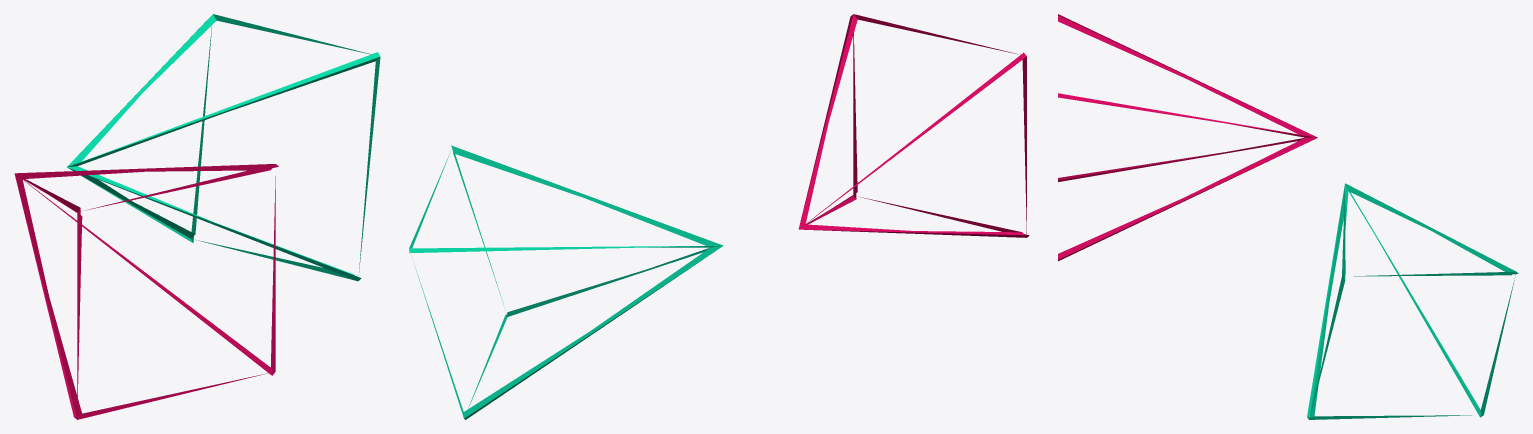
Rendered from glbscene_50_All_maskbFalse_maskwFalse_camTrue_skyFalse_predDepthmap_and_Camera_Branch.glb.
3 renders of one model, left to right at view 1: azimuth 30°, elevation 25°; view 2: azimuth 150°, elevation 25°; view 3: azimuth 270°, elevation 25°, orthographic. The views are drawn at different scales.
Visible parts, largest first — view 1: world; view 2: world; view 3: world.
Boxes of the visible parts, x1,y1,x2,y2 form: world: [14, 14, 380, 419]; world: [409, 14, 1029, 419]; world: [1058, 14, 1518, 419].
Bounding box in the file's own units: 0.3953 × 0.2498 × 0.4066.
